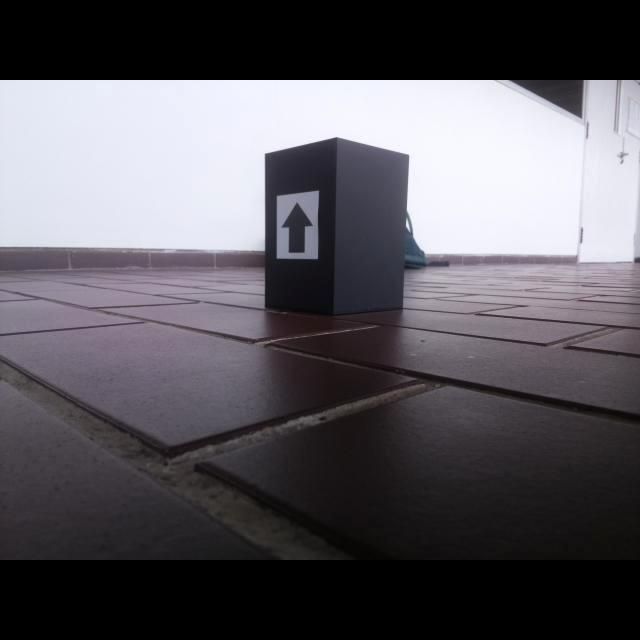UP: (281, 201, 315, 254)
